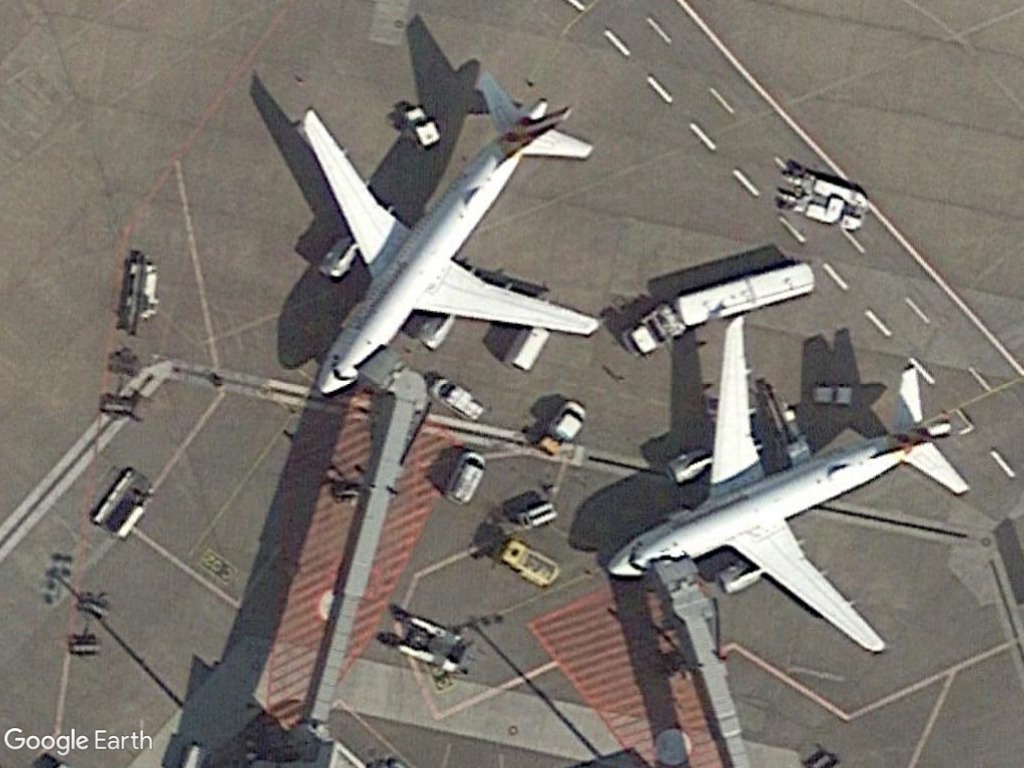chartered: (605, 311, 977, 655), (291, 67, 601, 401)
pushbacktruck: (768, 162, 872, 234), (380, 610, 483, 677), (91, 463, 159, 543)
van: (441, 448, 489, 503)
